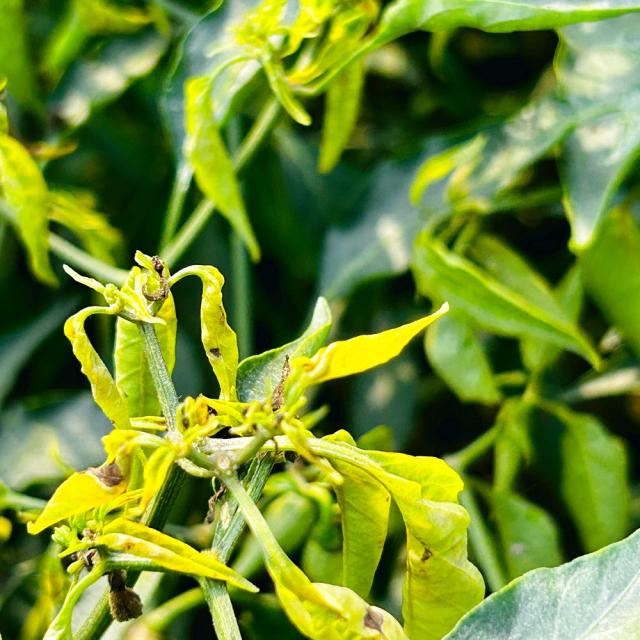Chilli_Leaf_Curl: (2, 1, 638, 638), (26, 249, 487, 638), (179, 0, 638, 260), (440, 527, 638, 638)
